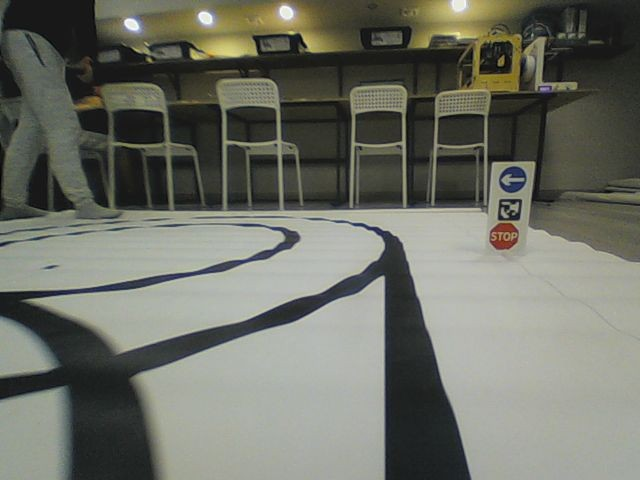Stop: (488, 221, 519, 251)
